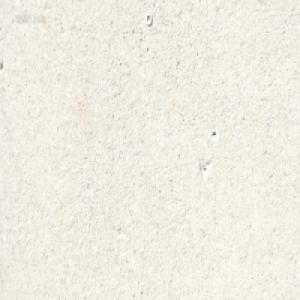Washer: (145, 12, 152, 26)
